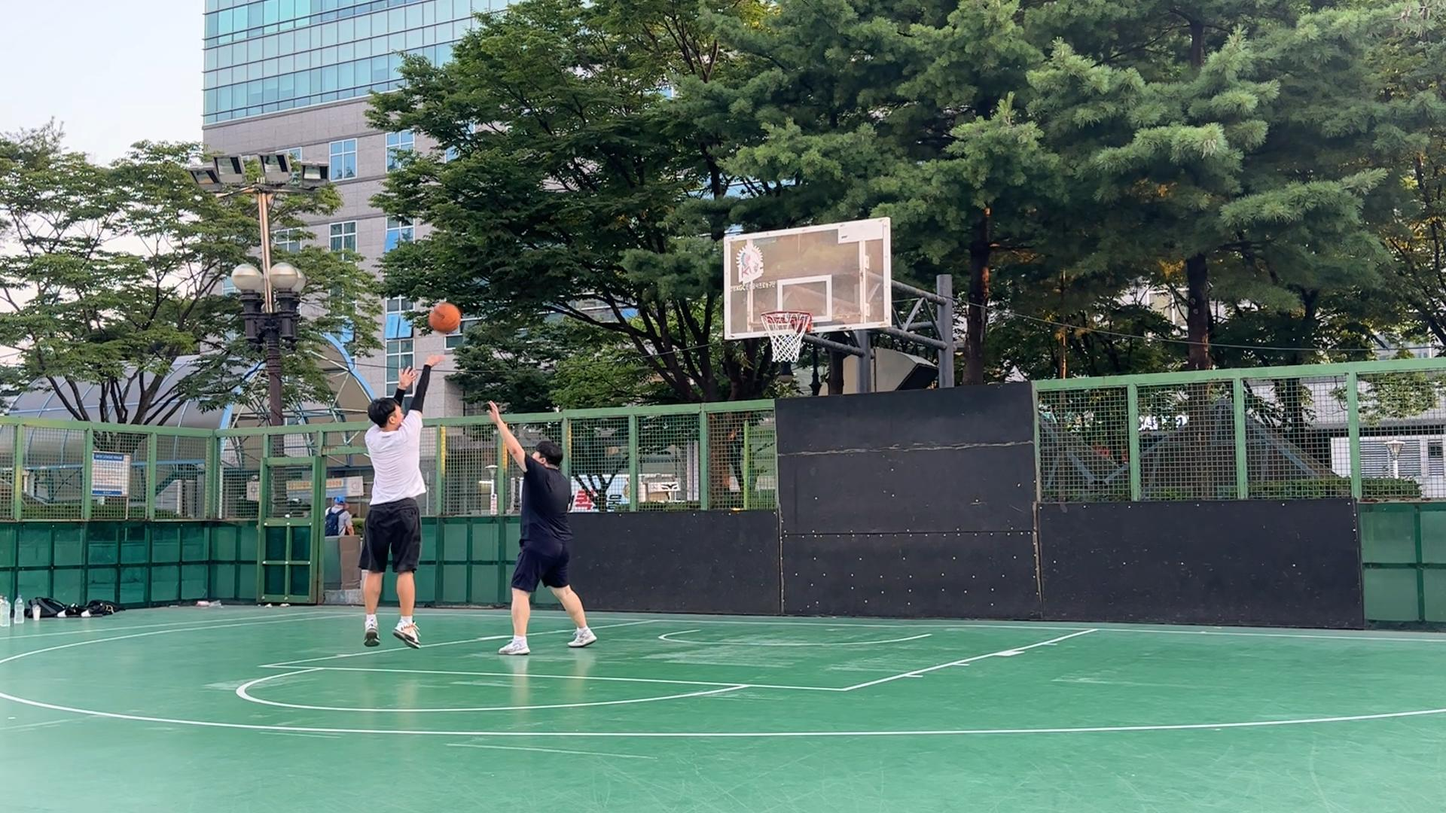ball: (428, 301, 462, 335)
human: (487, 397, 598, 656), (357, 352, 447, 650)
rim: (761, 310, 812, 364)
